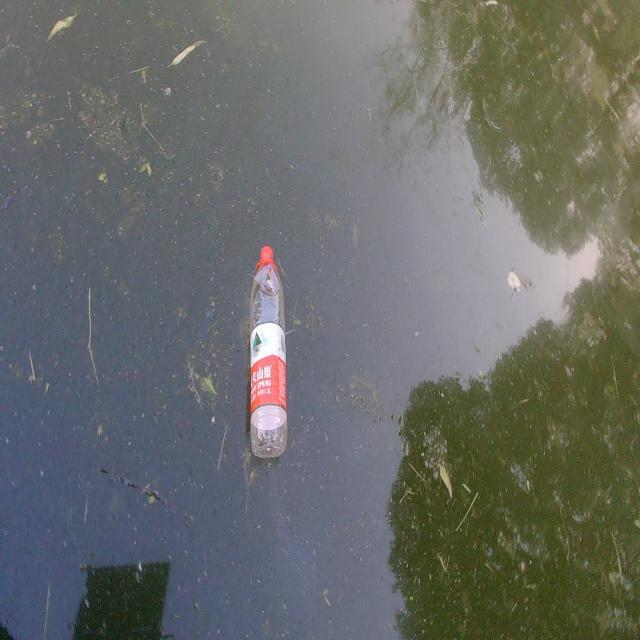bottle: (239, 240, 306, 465)
